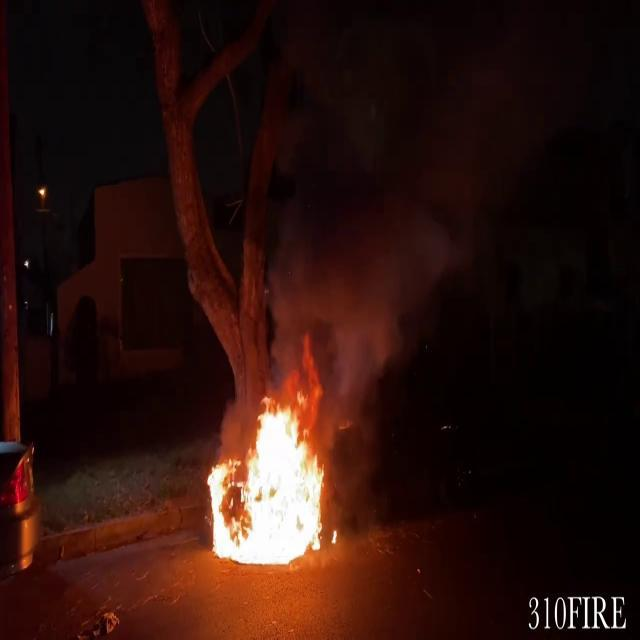Fire: (204, 390, 334, 570)
Smoke: (249, 162, 431, 410)
